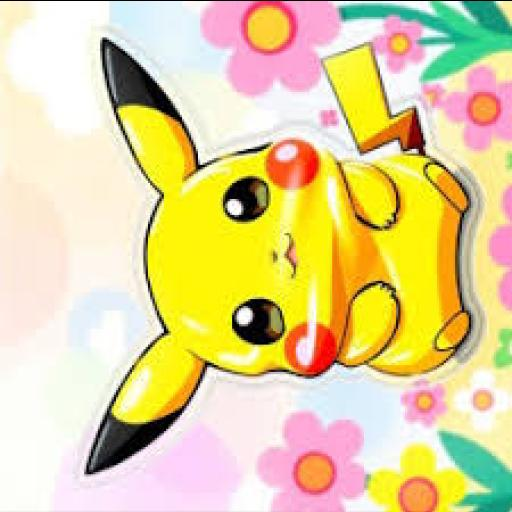Pikachu: (82, 36, 474, 474)
